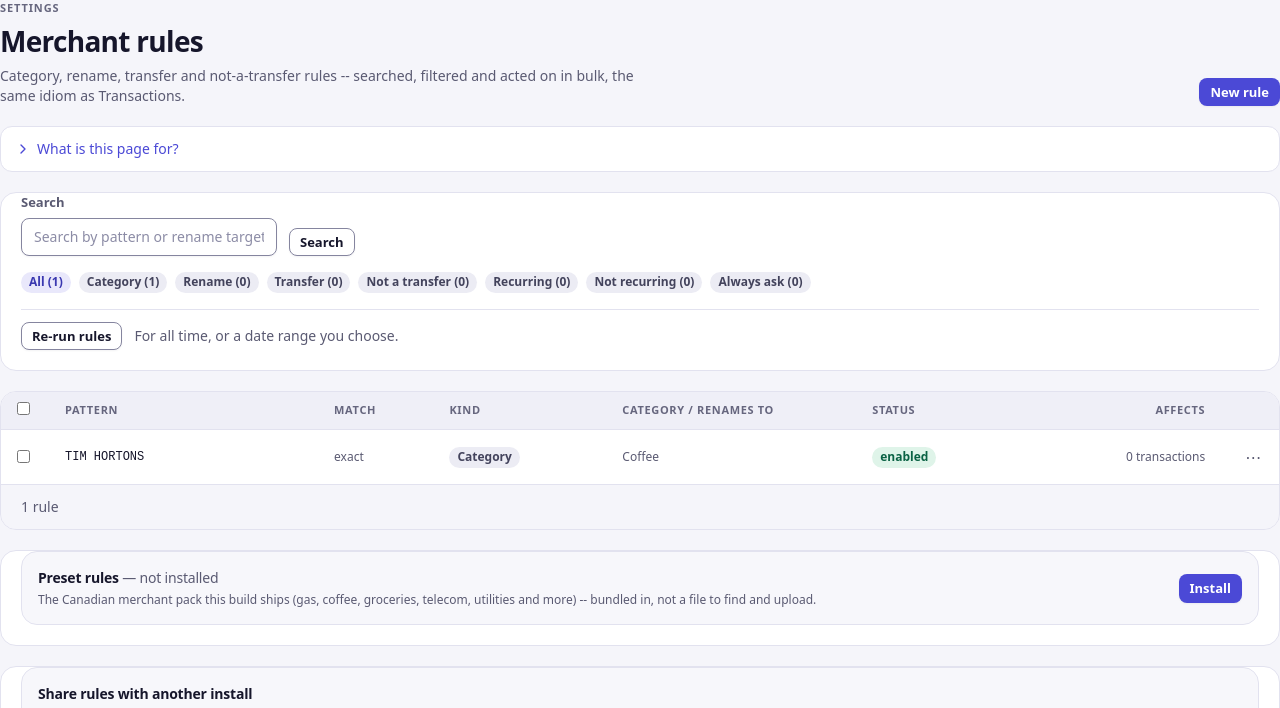
Test: MerchantRulesClient — bulk delete confirm (RowDialog, item 10) › a non-rename bulk selection says the delete cannot be undone, with no invented transaction count
The width and height of the screenshot is (1280, 708).
Step 1. Click the checkbox named "Select rule TIM HORTONS" → (24, 456), box [17,450,30,463]
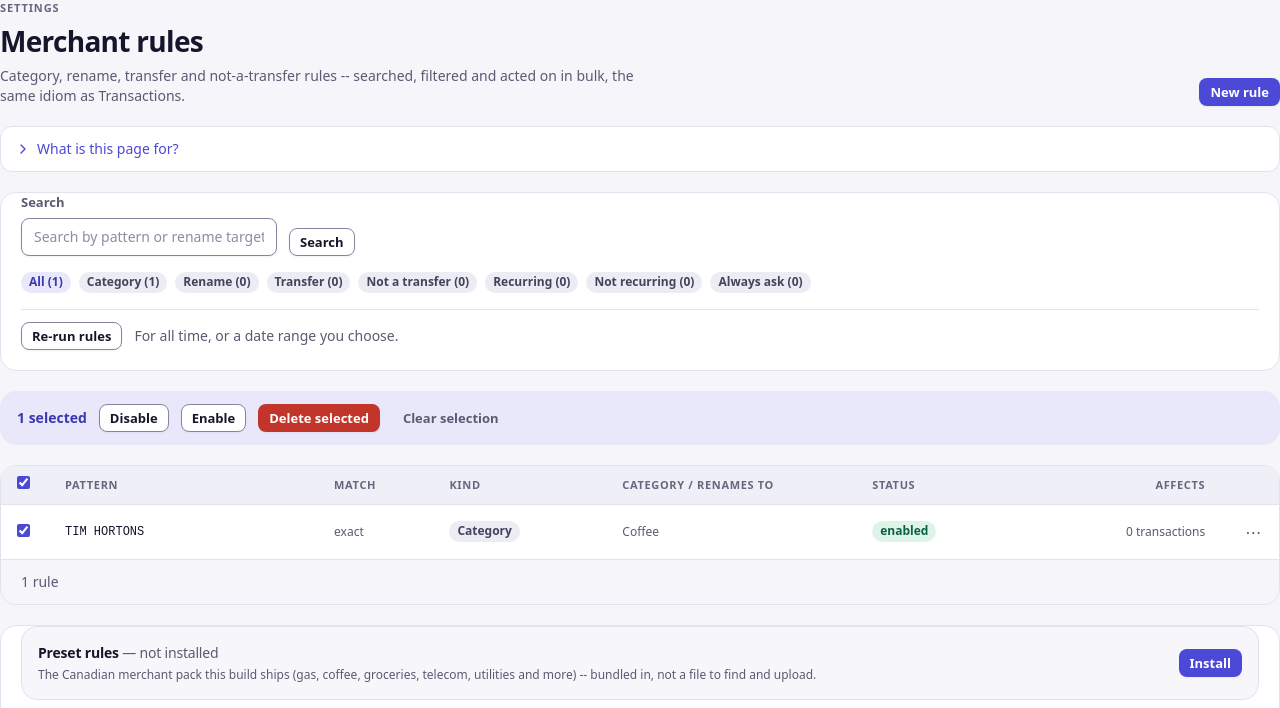
Step 2. Click the button "Delete selected" → (319, 418), box [258,404,380,432]
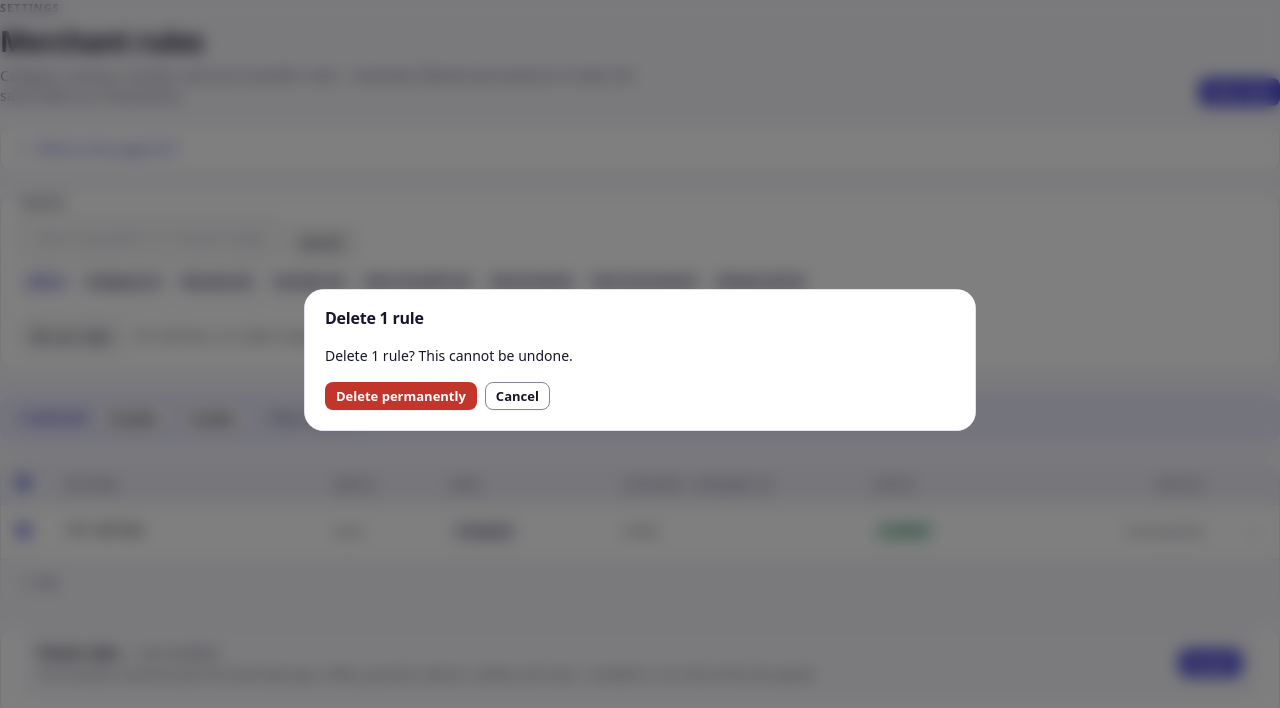
Now the text "Delete 1 rule? This cannot be undone." is shown, box [325,346,573,365]
